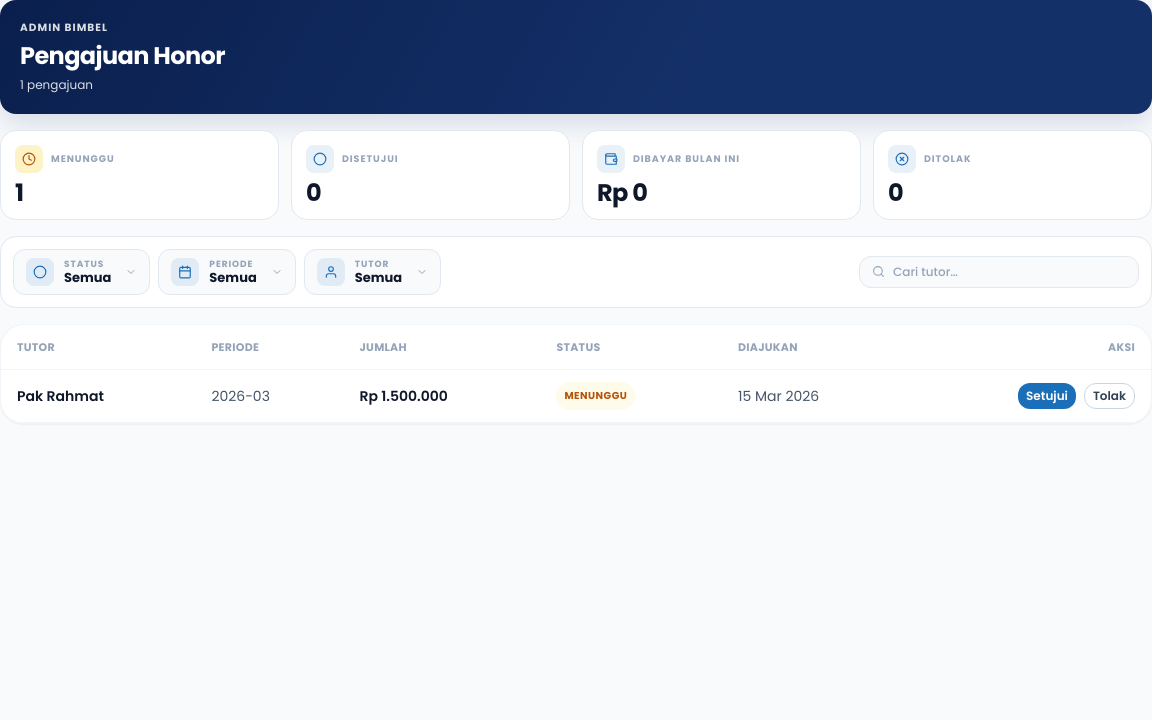
Test: Permintaan payout · Periode chip › renders a human month label, never the raw YYYY-MM
Click the button "Periode Semua" at (227, 272), box x1=158 y1=249 x2=296 y2=295
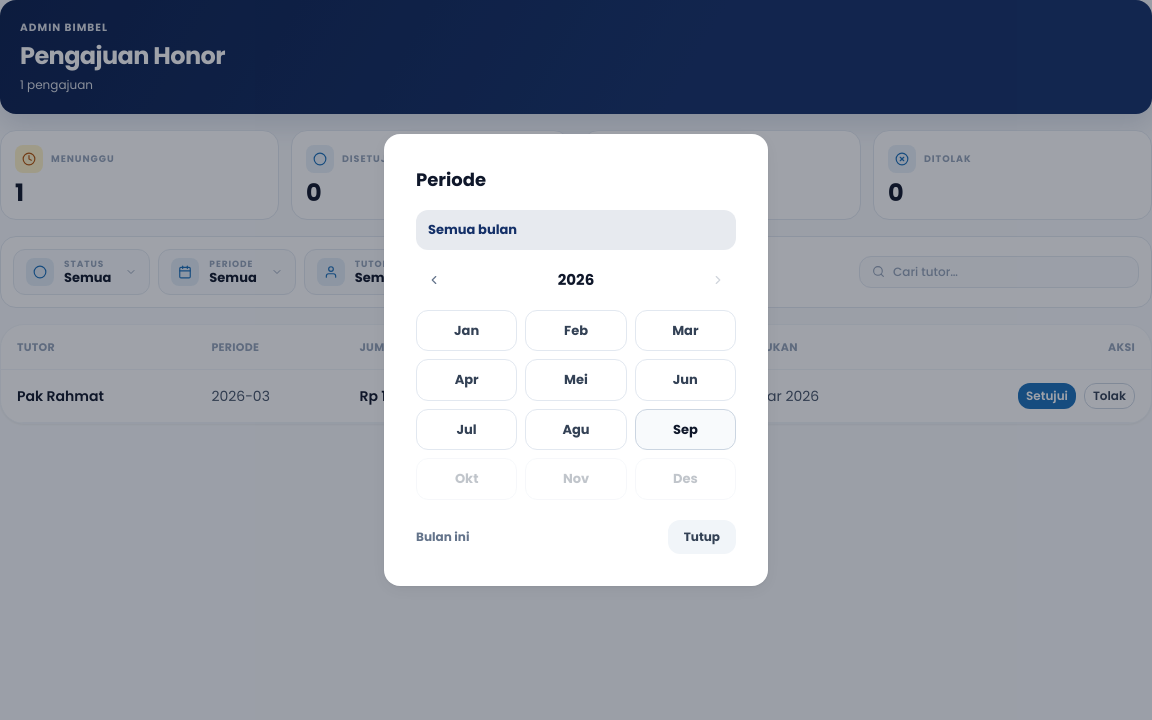
Click the button with test id "month-picker-cell" at (685, 331), box x1=635 y1=310 x2=736 y2=351
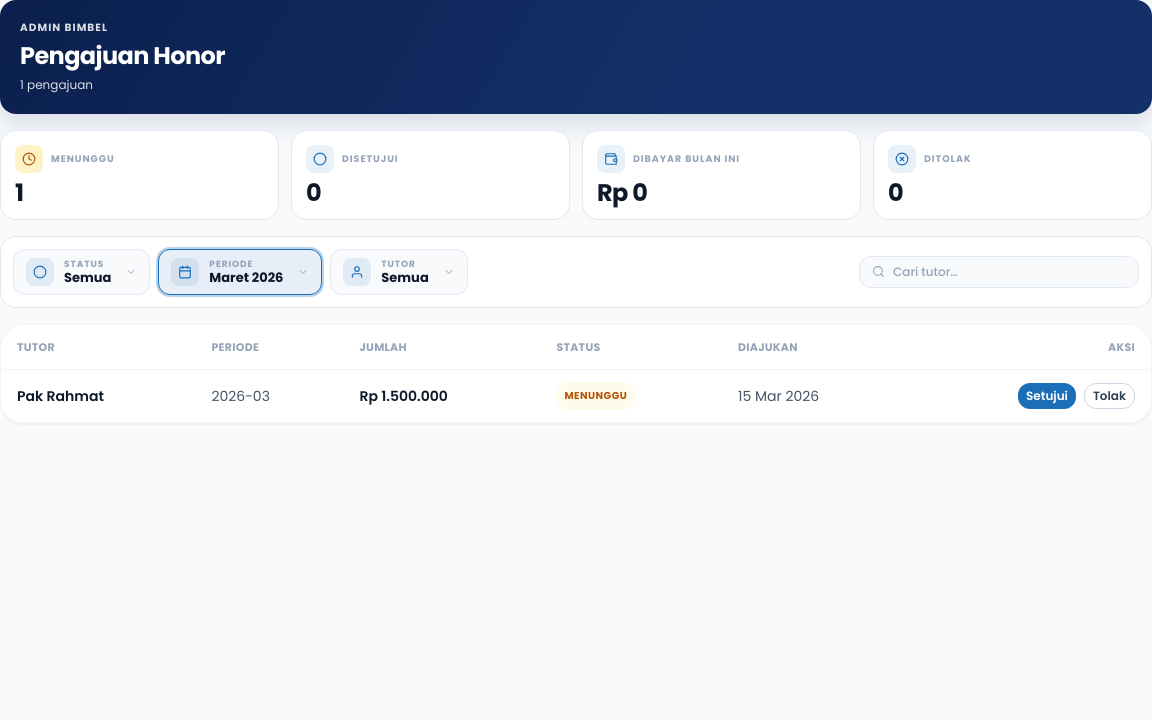
Expected: the button "Periode Maret 2026" is shown, x1=158 y1=249 x2=322 y2=295
Now the text "Maret 2026" is shown, box x1=209 y1=271 x2=283 y2=284
